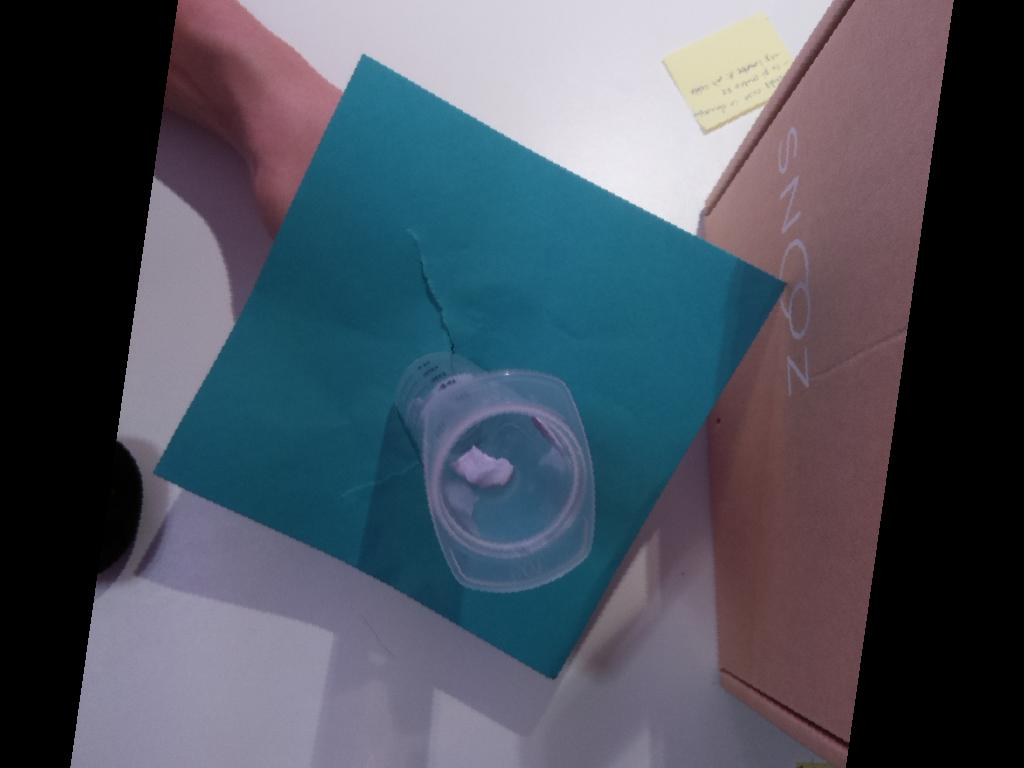dirty: (423, 369, 595, 592)
